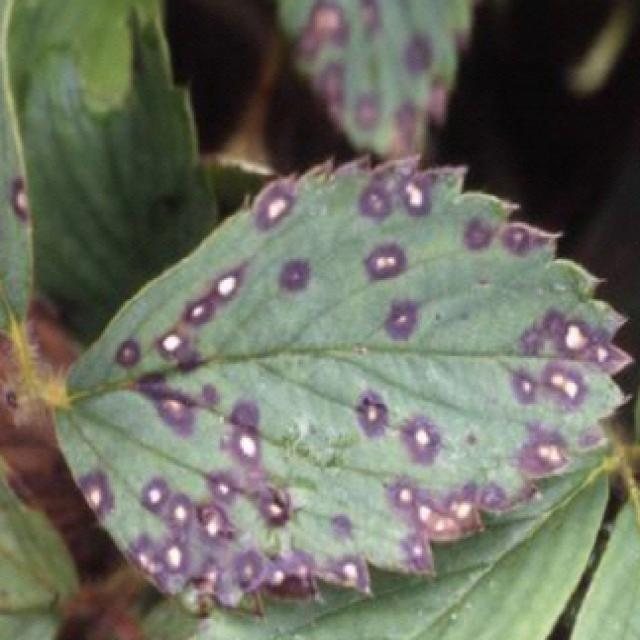Leaf Spot: (52, 150, 636, 621), (271, 0, 481, 164), (0, 452, 81, 640)
